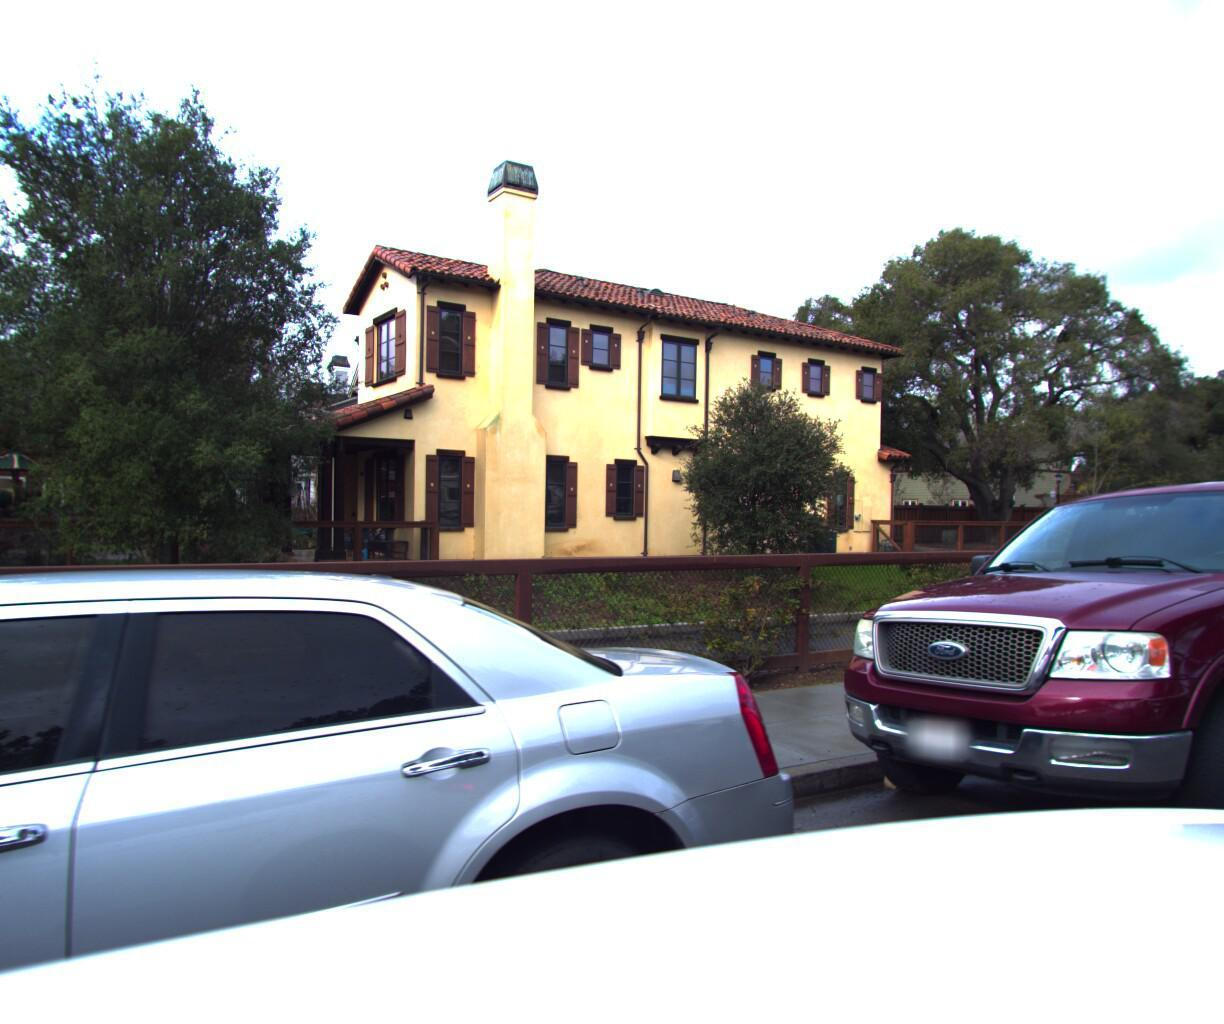car: (0, 522, 861, 1024), (782, 423, 1224, 927)
